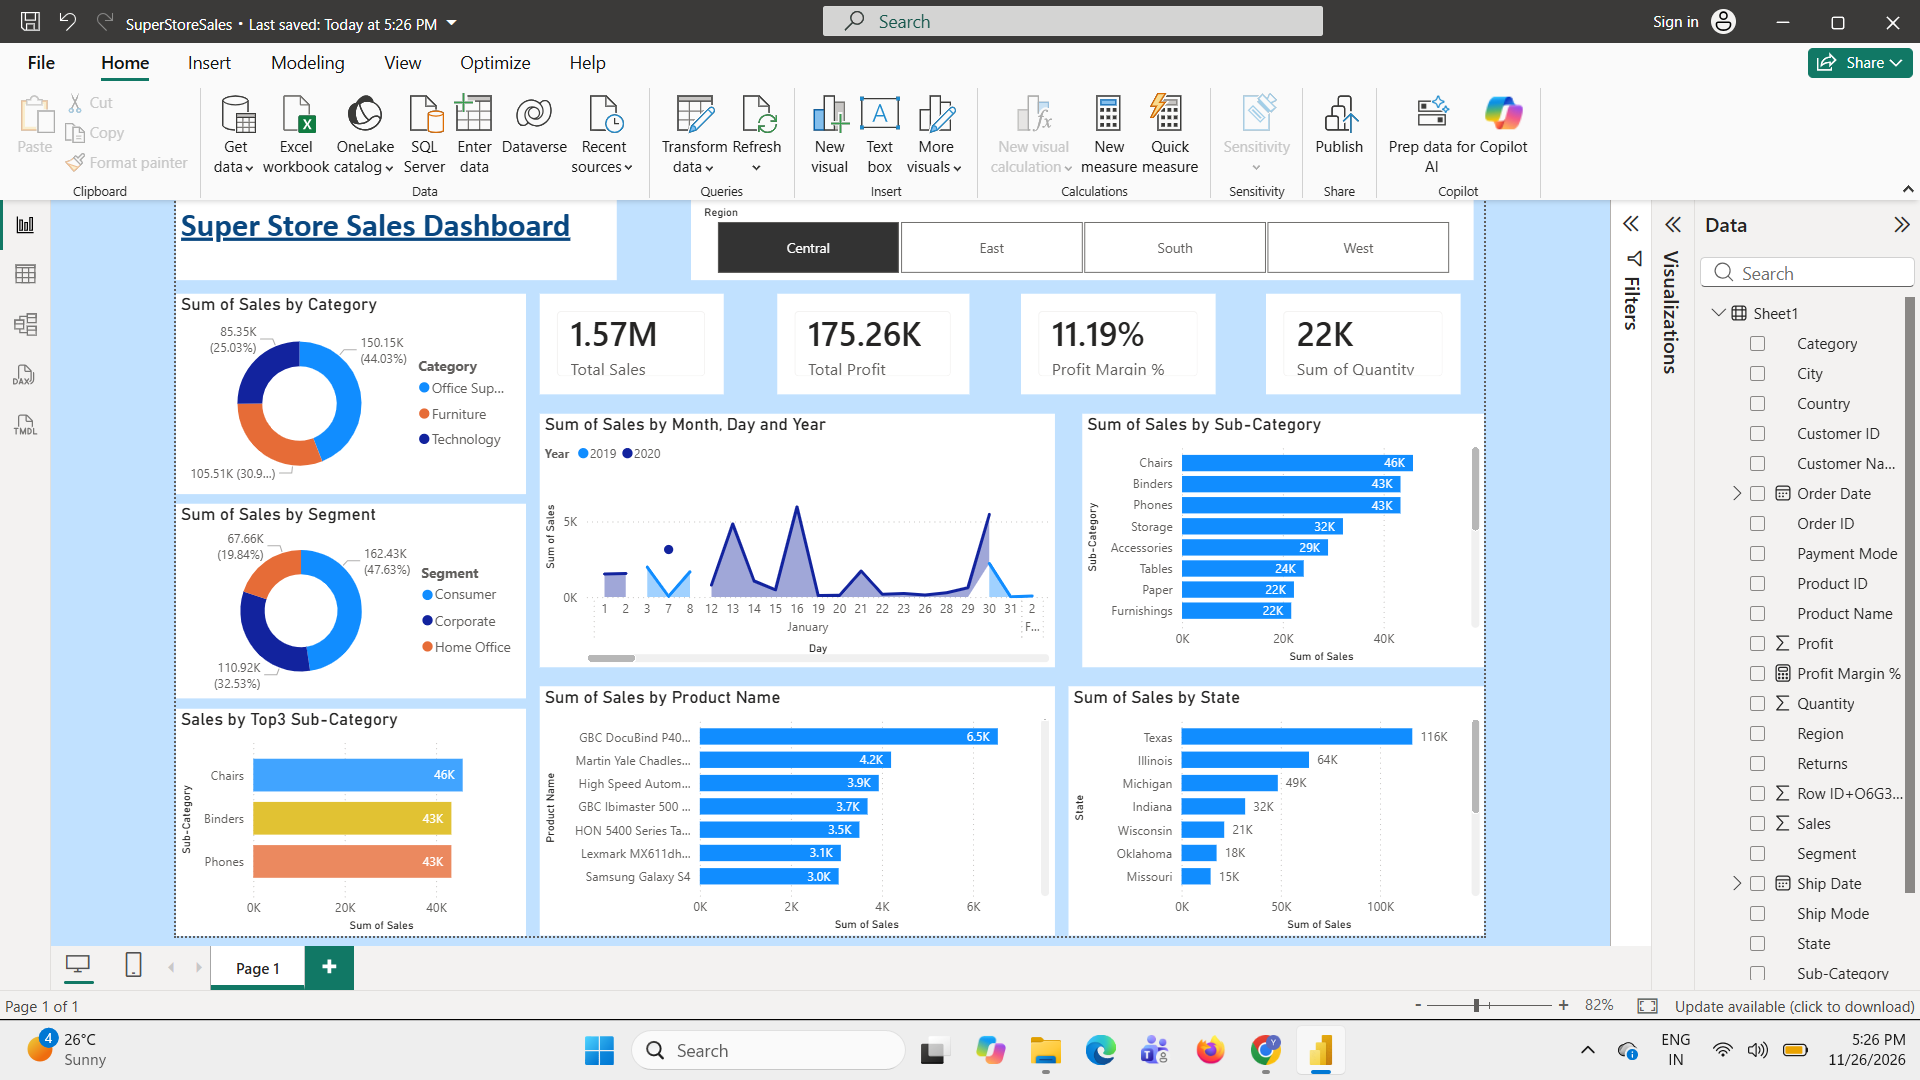

Layout of this report page (visuals, bound fields, positions):
{"tool":"powerbi","page":{"name":"Page 1","canvas":[1280,720],"ordinal":0},"visuals":[{"type":"barChart","fields":{"Y":["Sum(SuperStore_Sales_Dataset.Sales)"],"Category":["SuperStore_Sales_Dataset.Sub-Category"]},"box":[886.5,208.6,393.8,248.4],"z":0},{"type":"barChart","title":"Sales by Top3 Sub-Category","fields":{"Y":["Sum(SuperStore_Sales_Dataset.Sales)"],"Category":["SuperStore_Sales_Dataset.Sub-Category"]},"box":[0,497.5,342,223.1],"z":1000},{"type":"stackedAreaChart","fields":{"Y":["Sum(SuperStore_Sales_Dataset.Sales)"],"Series":["SuperStore_Sales_Dataset.Order Date.Variation.Date Hierarchy.Year"],"Category":["SuperStore_Sales_Dataset.Order Date.Variation.Date Hierarchy.Month","SuperStore_Sales_Dataset.Order Date.Variation.Date Hierarchy.Day"]},"box":[355.4,208.6,503.6,248.4],"z":2000},{"type":"donutChart","fields":{"Category":["SuperStore_Sales_Dataset.Segment"],"Y":["Sum(SuperStore_Sales_Dataset.Sales)"]},"box":[0,297.4,342,190.6],"z":3000},{"type":"slicer","fields":{"Values":["SuperStore_Sales_Dataset.Region"]},"box":[503.6,0,765.7,78.2],"z":4000},{"type":"textbox","box":[0,0,430.9,78.2],"z":5000},{"type":"barChart","fields":{"Y":["Sum(SuperStore_Sales_Dataset.Sales)"],"Category":["SuperStore_Sales_Dataset.State"]},"box":[872.7,476.2,407.5,244.3],"z":6000},{"type":"donutChart","fields":{"Y":["Sum(SuperStore_Sales_Dataset.Sales)"],"Category":["SuperStore_Sales_Dataset.Category"]},"box":[0,91.9,342,196],"z":7000},{"type":"barChart","fields":{"Y":["Sum(SuperStore_Sales_Dataset.Sales)"],"Category":["SuperStore_Sales_Dataset.Product Name"]},"box":[355.4,476.2,503.6,244.3],"z":8000},{"type":"cardVisual","fields":{"Data":["Sheet1.Total Sales"]},"box":[355.6,91.9,179.8,98.7],"z":9000},{"type":"cardVisual","fields":{"Data":["Sheet1.Total Profit"]},"box":[588.1,91.9,187.9,98.7],"z":10000},{"type":"cardVisual","fields":{"Data":["Sheet1.Profit Margin %"]},"box":[826,91.9,190.6,98.7],"z":11000},{"type":"cardVisual","fields":{"Data":["Sum(Sheet1.Quantity)"]},"box":[1066.7,91.9,190.6,98.7],"z":11001}]}

Visuals, with their boxes on the page's 1280x720 design canvas (x1, y1, x2, y2). These are canvas units, not pixel positions in the 1920x1080 screenshot, which may show the page scaled, cropped or inside an application window:
barChart - Sum(SuperStore_Sales_Dataset.Sales) x SuperStore_Sales_Dataset.Sub-Category: 886,209,1280,457
"Sales by Top3 Sub-Category" barChart: 0,498,342,721
stackedAreaChart - Sum(SuperStore_Sales_Dataset.Sales) x SuperStore_Sales_Dataset.Order Date.Variation.Date Hierarchy.Year: 355,209,859,457
donutChart - SuperStore_Sales_Dataset.Segment x Sum(SuperStore_Sales_Dataset.Sales): 0,297,342,488
slicer - SuperStore_Sales_Dataset.Region: 504,0,1269,78
textbox: 0,0,431,78
barChart - Sum(SuperStore_Sales_Dataset.Sales) x SuperStore_Sales_Dataset.State: 873,476,1280,720
donutChart - Sum(SuperStore_Sales_Dataset.Sales) x SuperStore_Sales_Dataset.Category: 0,92,342,288
barChart - Sum(SuperStore_Sales_Dataset.Sales) x SuperStore_Sales_Dataset.Product Name: 355,476,859,720
cardVisual - Sheet1.Total Sales: 356,92,535,191
cardVisual - Sheet1.Total Profit: 588,92,776,191
cardVisual - Sheet1.Profit Margin %: 826,92,1017,191
cardVisual - Sum(Sheet1.Quantity): 1067,92,1257,191
